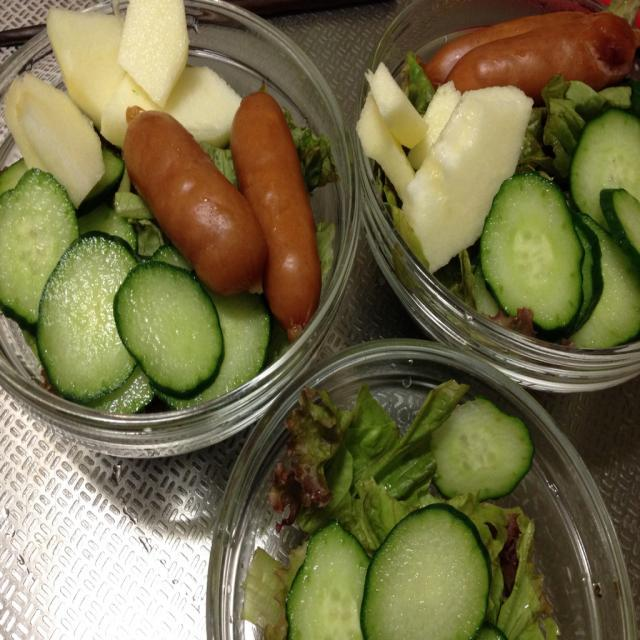Cucumber: (0, 152, 276, 420), (482, 106, 640, 350), (358, 501, 494, 639), (430, 400, 538, 502), (288, 520, 374, 640)
